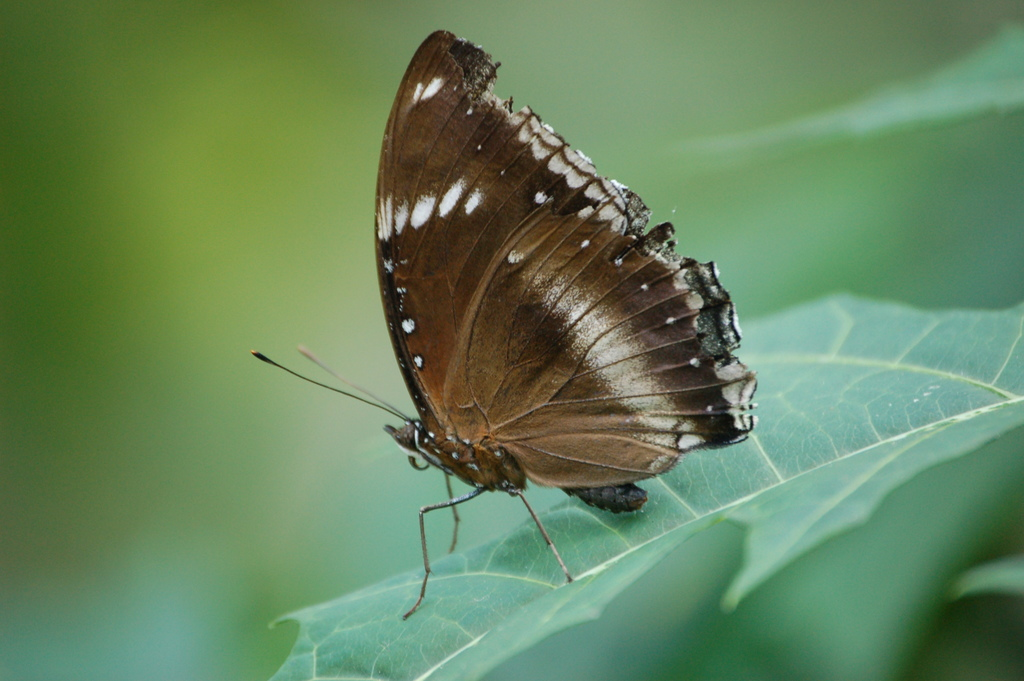Butterfly: (312, 16, 781, 568)
